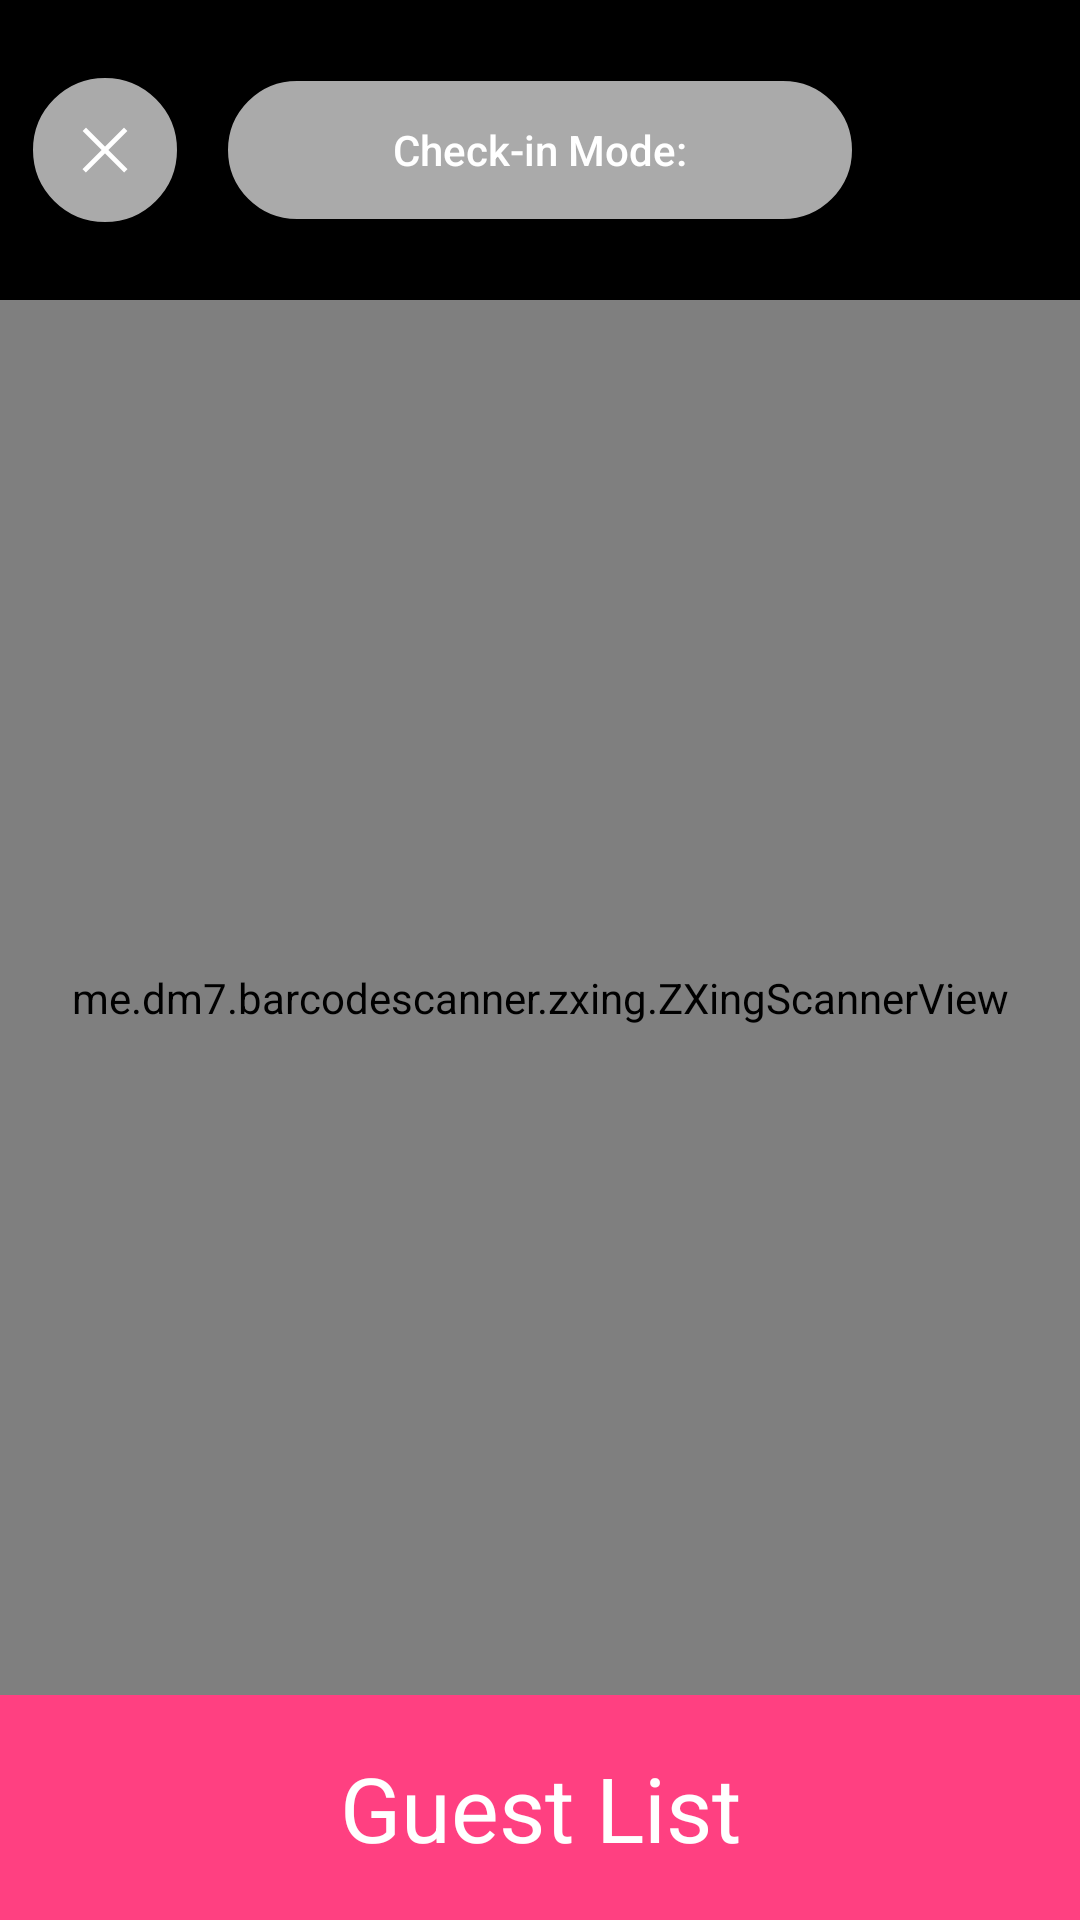

Where icons sit on this 1080×1920 app screen, as box(x1, y1, x2, y2):
Exit scan tickets: box(33, 78, 177, 222)
